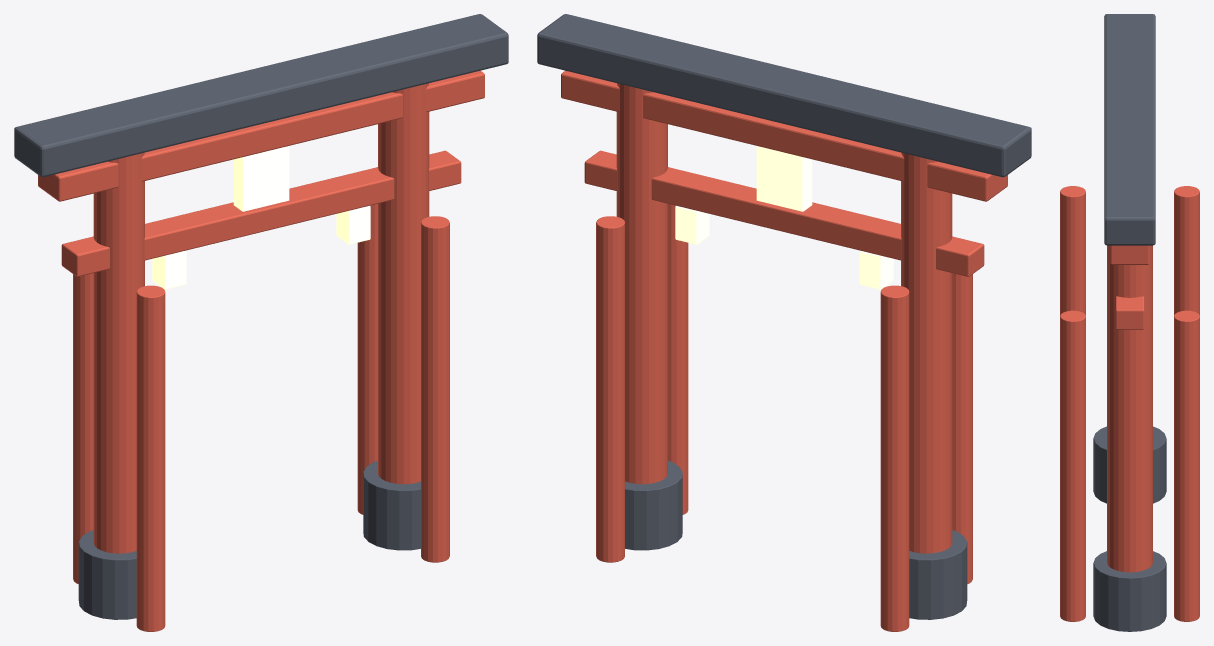
Rendered from torii_gate.glb.
The picture shows the model from 3 angles, left to right: view 1: azimuth 30°, elevation 25°; view 2: azimuth 150°, elevation 25°; view 3: azimuth 270°, elevation 25°; orthographic projection. The views are drawn at different scales.
Visible parts, largest first — view 1: KasagiTopLintel, MainPillarL, MainPillarR, ShimakiBeam, NukiTieBeam, SubPillarFL, SubPillarFR, SubPillarBL, SubPillarBR, BasePedestalL, BasePedestalR, SacredTablet (+2 smaller); view 2: KasagiTopLintel, MainPillarL, MainPillarR, ShimakiBeam, NukiTieBeam, SubPillarBL, SubPillarBR, SubPillarFL, SubPillarFR, BasePedestalL, BasePedestalR, SacredTablet (+2 smaller); view 3: MainPillarR, KasagiTopLintel, SubPillarBR, SubPillarFR, BasePedestalR, SubPillarBL, SubPillarFL, BasePedestalL, NukiTieBeam, ShimakiBeam.
Part boxes in pixels (left/top/right/bottom): KasagiTopLintel: left=14, top=14, right=508, bottom=177; MainPillarL: left=93, top=152, right=144, bottom=553; MainPillarR: left=378, top=83, right=429, bottom=484; ShimakiBeam: left=38, top=70, right=484, bottom=201; NukiTieBeam: left=61, top=150, right=461, bottom=276; SubPillarFL: left=136, top=285, right=165, bottom=631; SubPillarFR: left=421, top=216, right=449, bottom=562; SubPillarBL: left=73, top=273, right=93, bottom=583; SubPillarBR: left=357, top=203, right=377, bottom=514; BasePedestalL: left=78, top=530, right=136, bottom=619; BasePedestalR: left=363, top=460, right=420, bottom=550; SacredTablet: left=233, top=146, right=289, bottom=211; KasagiTopLintel: left=537, top=14, right=1031, bottom=177; MainPillarL: left=901, top=152, right=952, bottom=553; MainPillarR: left=616, top=83, right=667, bottom=484; ShimakiBeam: left=561, top=70, right=1007, bottom=201; NukiTieBeam: left=584, top=150, right=984, bottom=276; SubPillarBL: left=880, top=285, right=909, bottom=631; SubPillarBR: left=596, top=216, right=624, bottom=562; SubPillarFL: left=952, top=273, right=972, bottom=583; SubPillarFR: left=668, top=203, right=688, bottom=514; BasePedestalL: left=909, top=530, right=967, bottom=619; BasePedestalR: left=625, top=460, right=682, bottom=550; SacredTablet: left=756, top=146, right=812, bottom=211; MainPillarR: left=1107, top=245, right=1152, bottom=572; KasagiTopLintel: left=1104, top=14, right=1155, bottom=245; SubPillarBR: left=1174, top=310, right=1199, bottom=621; SubPillarFR: left=1060, top=310, right=1085, bottom=621; BasePedestalR: left=1093, top=551, right=1166, bottom=631; SubPillarBL: left=1174, top=186, right=1199, bottom=315; SubPillarFL: left=1060, top=186, right=1085, bottom=315; BasePedestalL: left=1093, top=426, right=1166, bottom=503; NukiTieBeam: left=1115, top=296, right=1144, bottom=329; ShimakiBeam: left=1110, top=245, right=1149, bottom=264.
Size of the model in its own units: 17.92 by 17.86 by 5.16.
